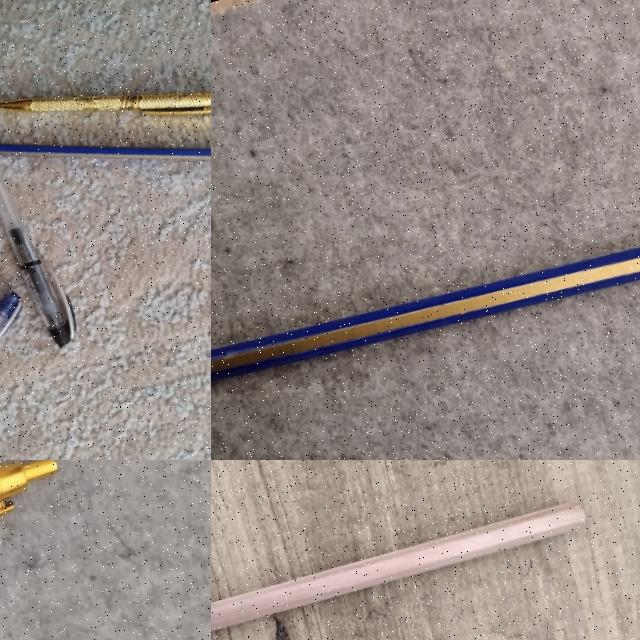pen: (0, 142, 78, 354), (0, 290, 54, 460)
pencil: (211, 248, 639, 381), (211, 504, 584, 631), (0, 143, 211, 159)
signature pen: (0, 38, 211, 168), (0, 460, 56, 515)
